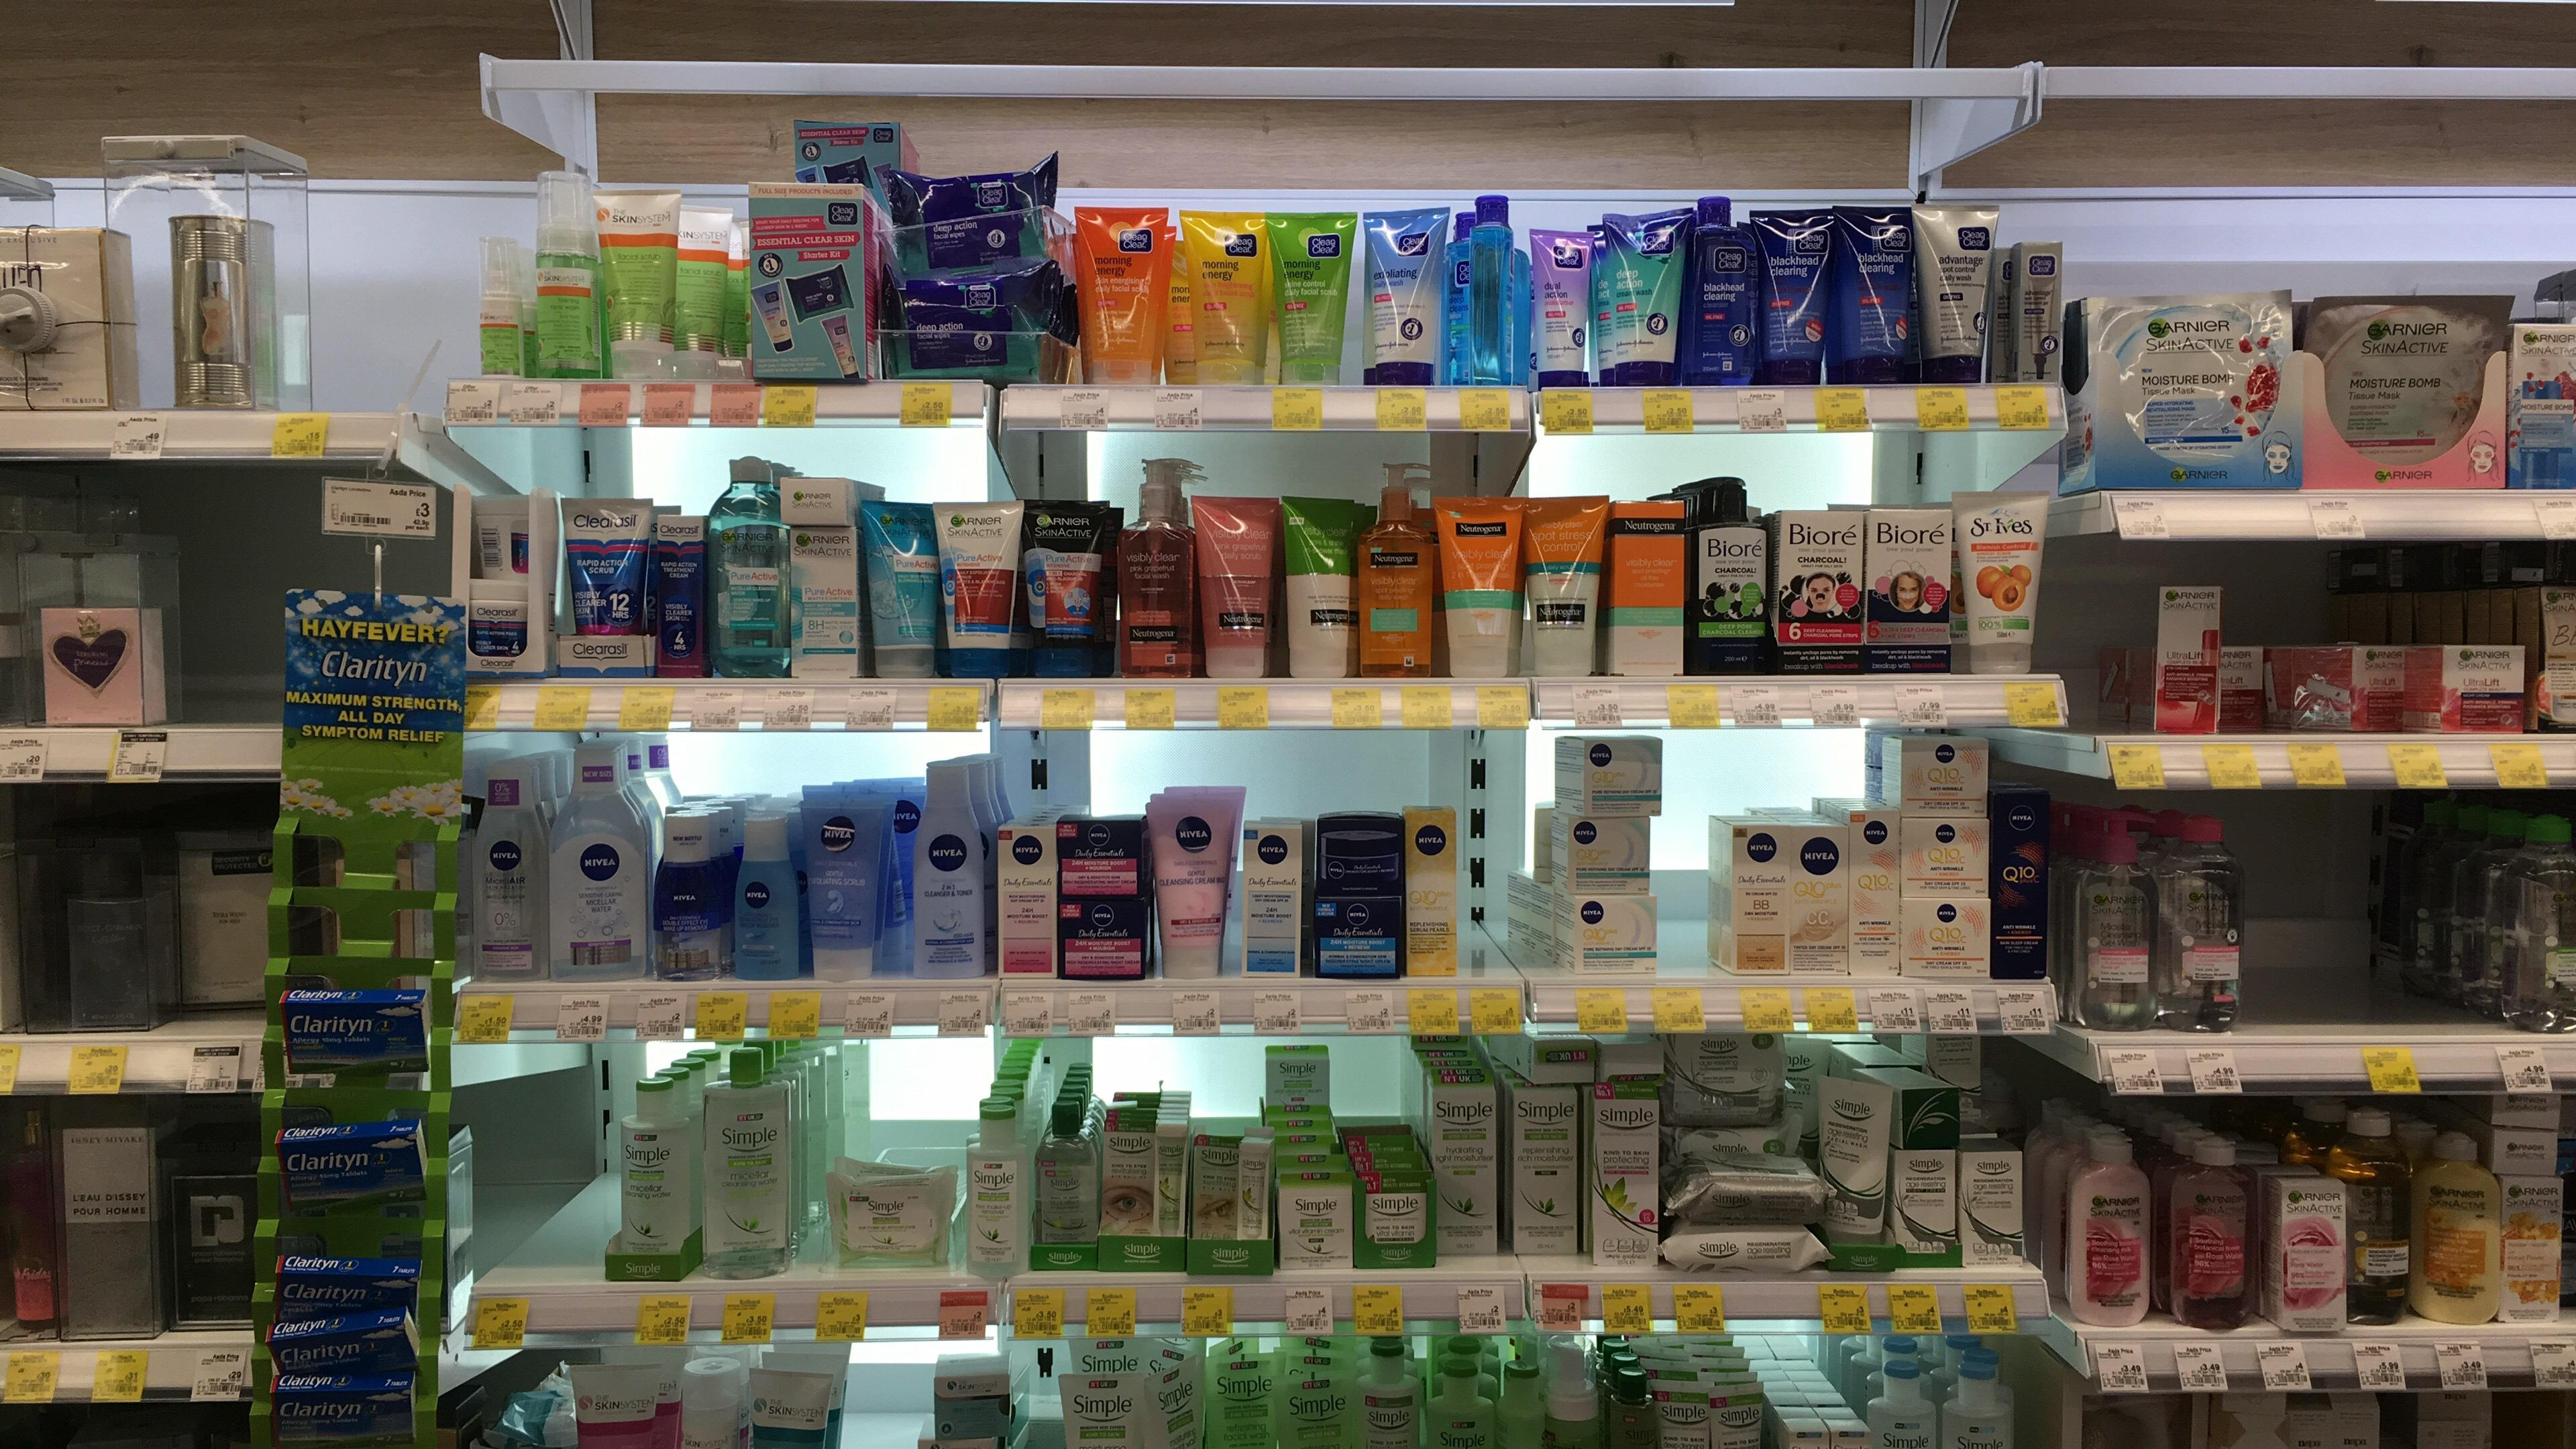empty: (487, 1072, 605, 1274), (157, 552, 283, 725), (2242, 839, 2334, 1026), (2337, 840, 2429, 1028), (1461, 812, 1529, 977), (2074, 582, 2144, 731), (1658, 826, 1718, 984)
